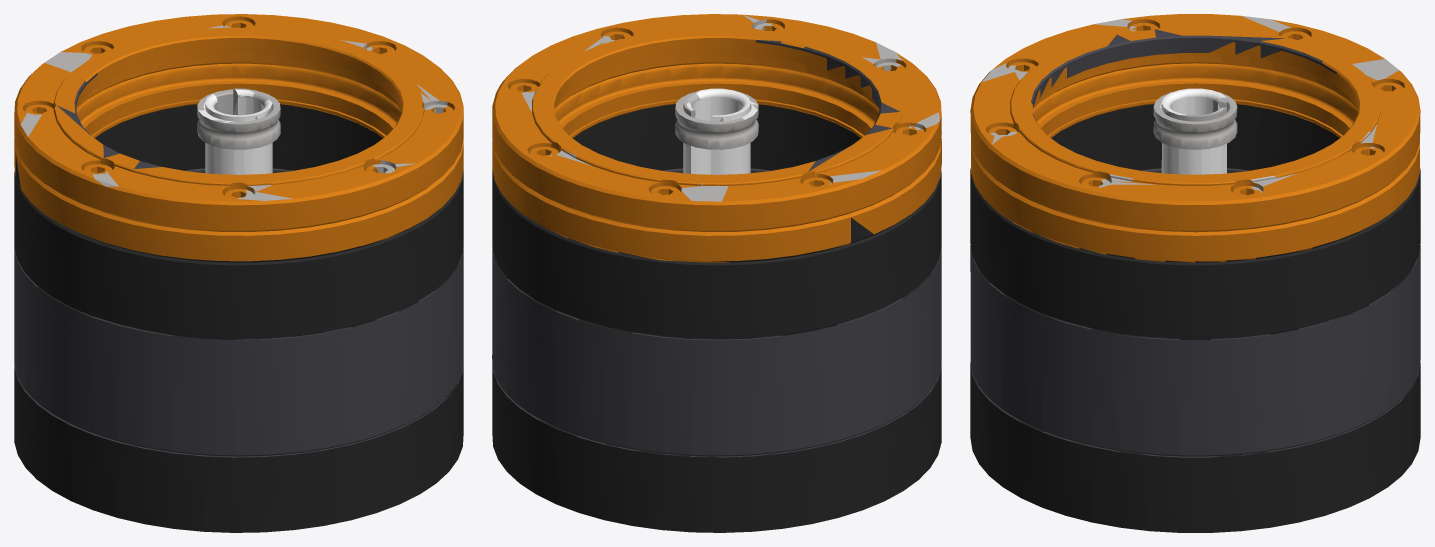
The model's file is motor5.glb.
3 renders of one model, left to right at view 1: azimuth 30°, elevation 25°; view 2: azimuth 150°, elevation 25°; view 3: azimuth 270°, elevation 25°, orthographic.
Parts seen in each view (by area): view 1: m0, m2, m3, m4, m8; view 2: m0, m2, m3, m4, m8; view 3: m0, m2, m3, m4, m8.
Boxes of the visible parts, x1,y1,x2,y2 form: m0: [14, 104, 463, 532]; m2: [14, 14, 463, 261]; m3: [14, 73, 463, 457]; m4: [20, 25, 448, 200]; m8: [198, 89, 272, 174]; m0: [492, 104, 941, 532]; m2: [492, 14, 941, 262]; m3: [492, 40, 941, 457]; m4: [521, 15, 939, 201]; m8: [683, 88, 757, 174]; m0: [970, 104, 1420, 532]; m2: [970, 14, 1420, 262]; m3: [970, 29, 1420, 457]; m4: [982, 16, 1398, 192]; m8: [1160, 88, 1226, 174].
Size of the model in its own units: 0.08 by 0.0658 by 0.08.
